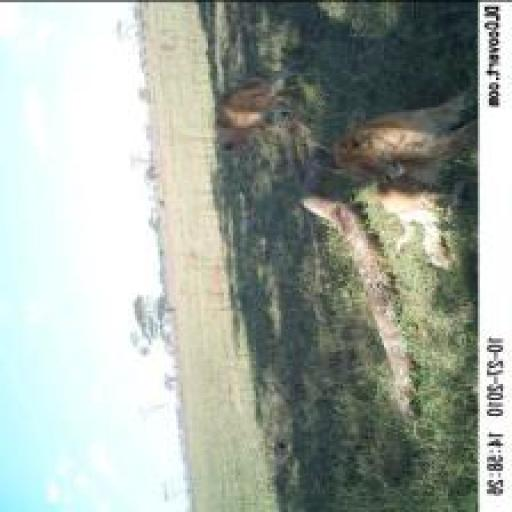lion: (329, 92, 469, 273), (197, 50, 322, 177)
